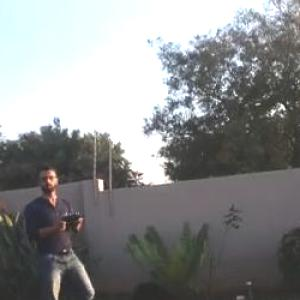follow: (18, 155, 100, 299)
